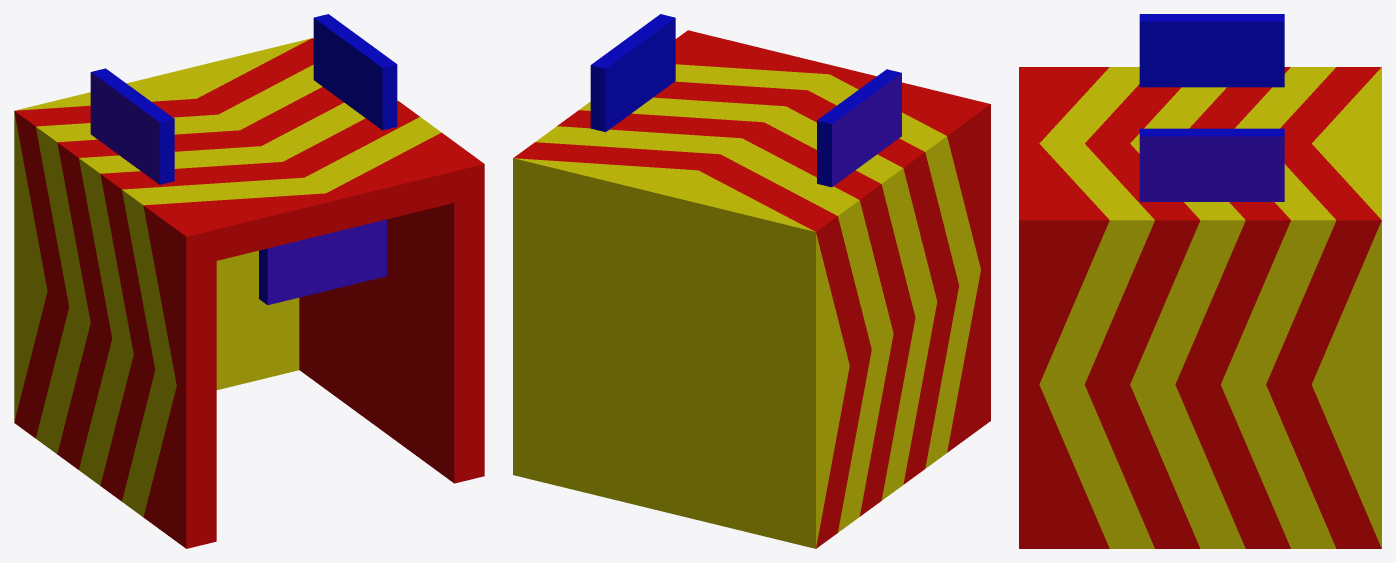
The model's file is NW_ORETRAIL_BETA.OBJ.
The picture shows the model from 3 angles, left to right: view 1: azimuth 30°, elevation 25°; view 2: azimuth 150°, elevation 25°; view 3: azimuth 270°, elevation 25°; orthographic projection. The views are drawn at different scales.
Visible parts, largest first — view 1: NW_ORETRAIL_BETA; view 2: NW_ORETRAIL_BETA; view 3: NW_ORETRAIL_BETA.
Part boxes in pixels (<box>): NW_ORETRAIL_BETA: <box>14,14,484,548</box>; NW_ORETRAIL_BETA: <box>513,14,990,548</box>; NW_ORETRAIL_BETA: <box>1019,14,1381,548</box>.
Size of the model in its own units: 5 by 6.04 by 5.
